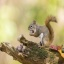squirrel: (27, 14, 58, 45)
